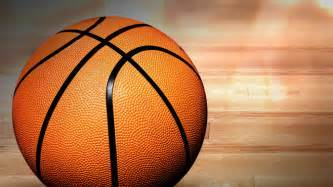basketball: (11, 16, 208, 187)
